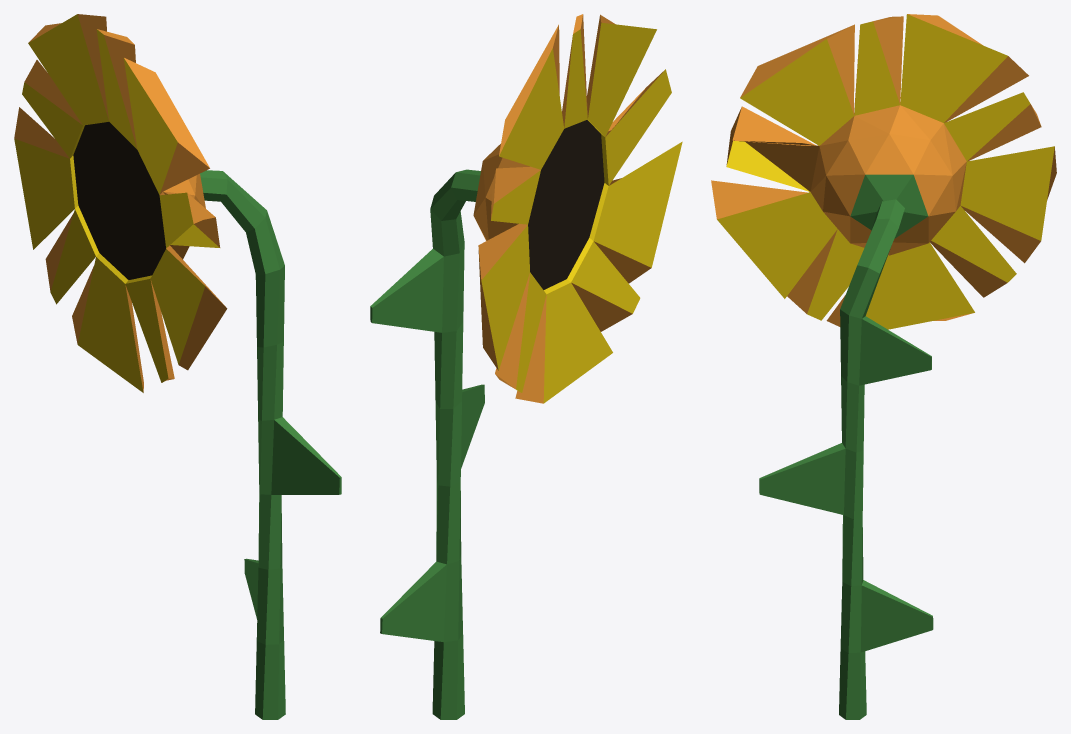
The model's file is sunflower.fbx.
3 views of the same model, side by side, from view 1: azimuth 30°, elevation 25°; view 2: azimuth 150°, elevation 25°; view 3: azimuth 270°, elevation 25° (orthographic). The views are drawn at different scales.
Visible parts, largest first — view 1: Icosphere, Cylinder; view 2: Icosphere, Cylinder; view 3: Icosphere, Cylinder.
Boxes of the visible parts, x1,y1,x2,y2 form: Icosphere: (14,14,227,392); Cylinder: (200,170,341,719); Icosphere: (473,14,682,403); Cylinder: (370,169,484,719); Icosphere: (711,14,1056,329); Cylinder: (759,199,933,719).
Bounding box in the file's own units: 237 × 905 × 442.
